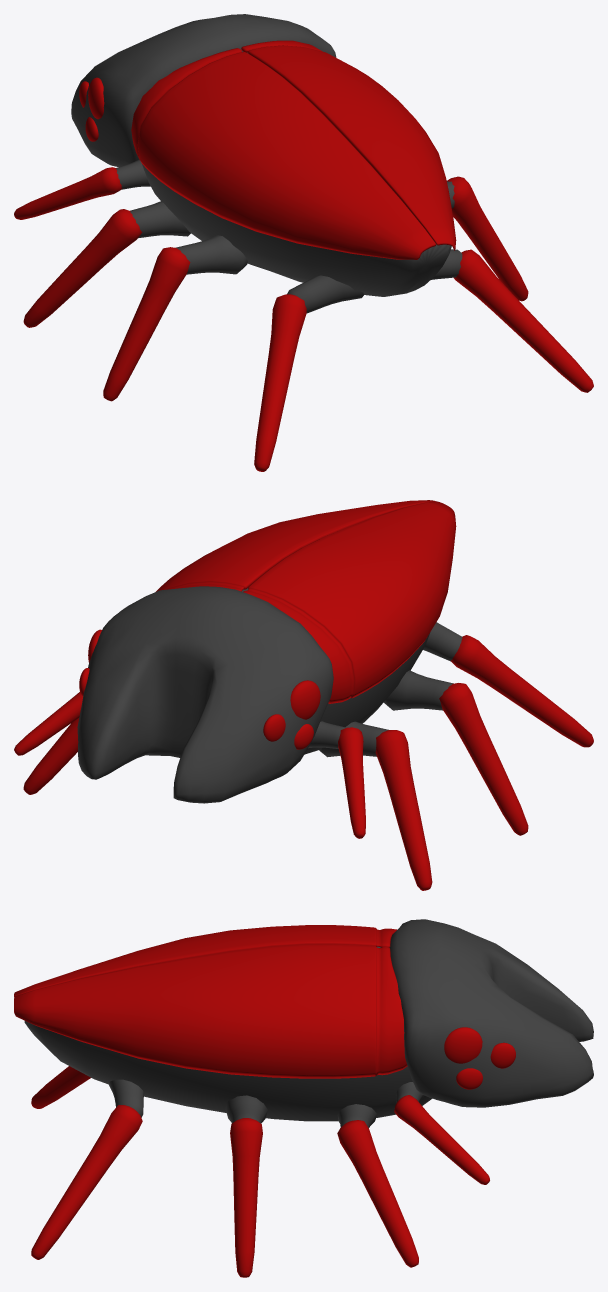
File: Enemy_stage_01.fbx
The picture shows the model from 3 angles, top to bottom: view 1: azimuth 30°, elevation 25°; view 2: azimuth 150°, elevation 25°; view 3: azimuth 270°, elevation 25°; orthographic projection. The views are drawn at different scales.
Visible parts, largest first — view 1: Enemy Stage 01; view 2: Enemy Stage 01; view 3: Enemy Stage 01.
Part boxes in pixels (x1,y1,x2,y2): Enemy Stage 01: (14,14,593,471); Enemy Stage 01: (14,500,593,890); Enemy Stage 01: (14,919,593,1277).
Size of the model in its own units: 83.03 by 48.86 by 104.
